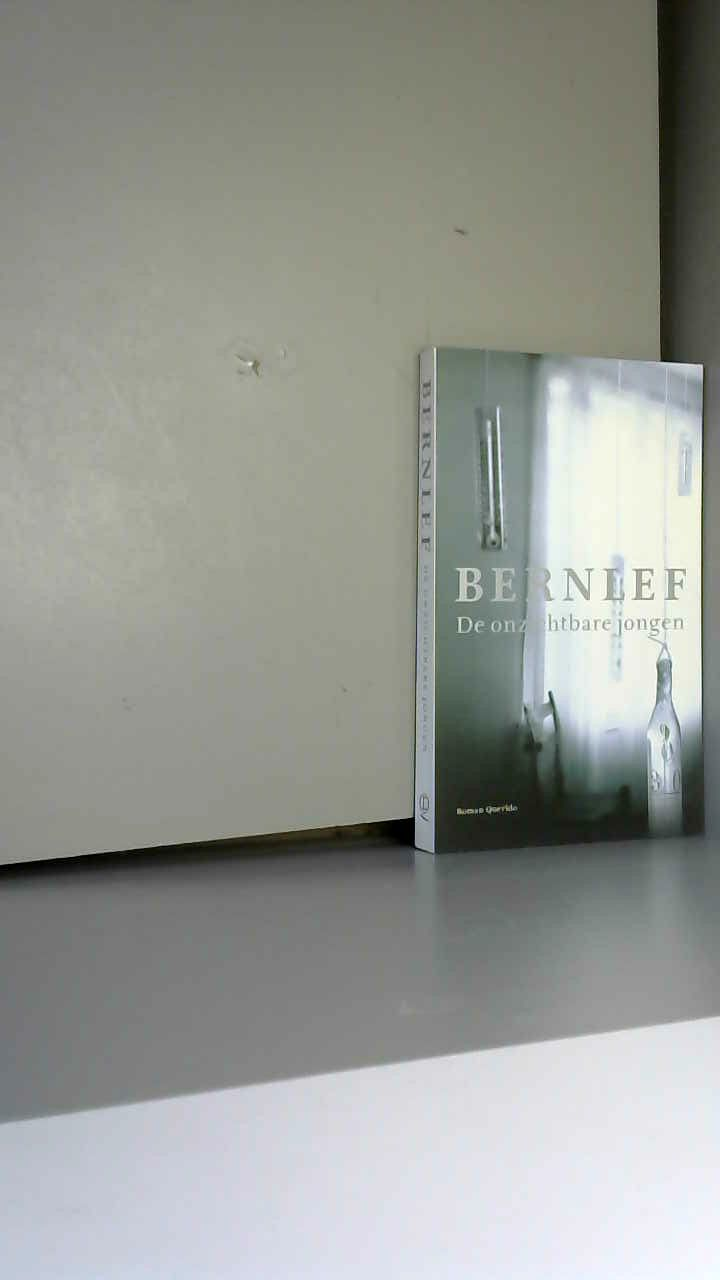book: (400, 320, 719, 904)
